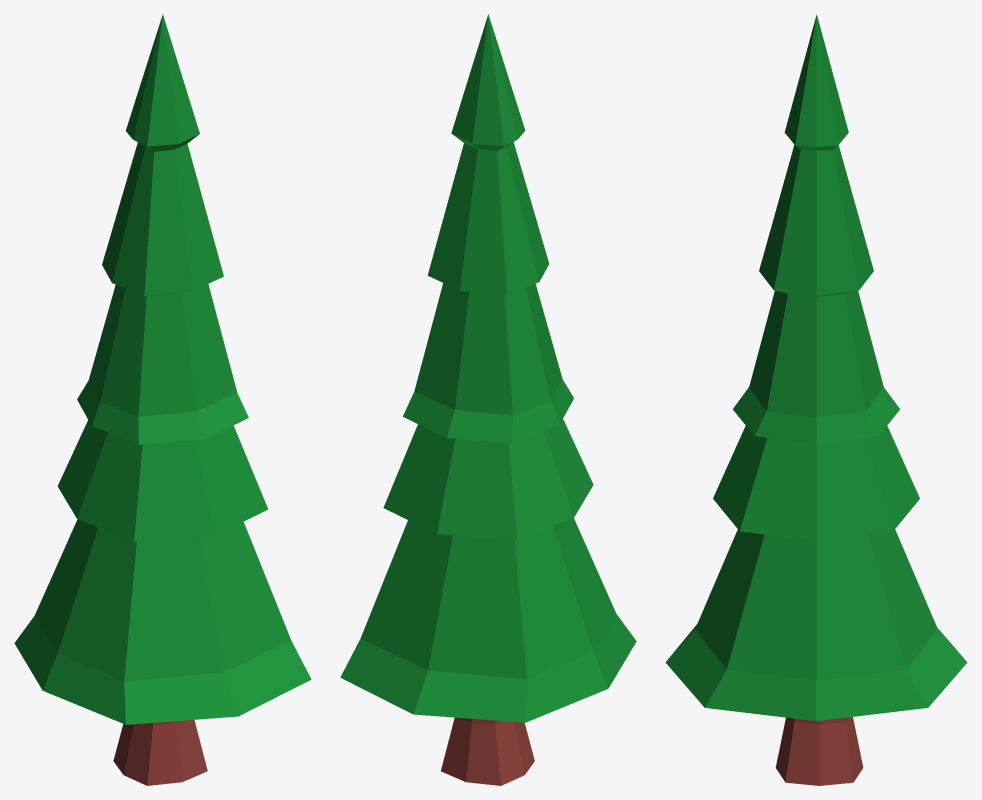
The model's file is PineA.fbx.
3 views of the same model, side by side, from view 1: azimuth 30°, elevation 25°; view 2: azimuth 150°, elevation 25°; view 3: azimuth 270°, elevation 25° (orthographic).
Visible parts, largest first — view 1: Cube.018, Cube.021; view 2: Cube.018, Cube.021; view 3: Cube.018, Cube.021.
Part boxes in pixels (x1,y1,x2,y2): Cube.018: [14, 14, 311, 724]; Cube.021: [113, 720, 207, 785]; Cube.018: [340, 14, 636, 722]; Cube.021: [441, 717, 534, 785]; Cube.018: [665, 14, 967, 721]; Cube.021: [775, 717, 863, 785].
Bounding box in the file's own units: 216 × 645 × 234.
